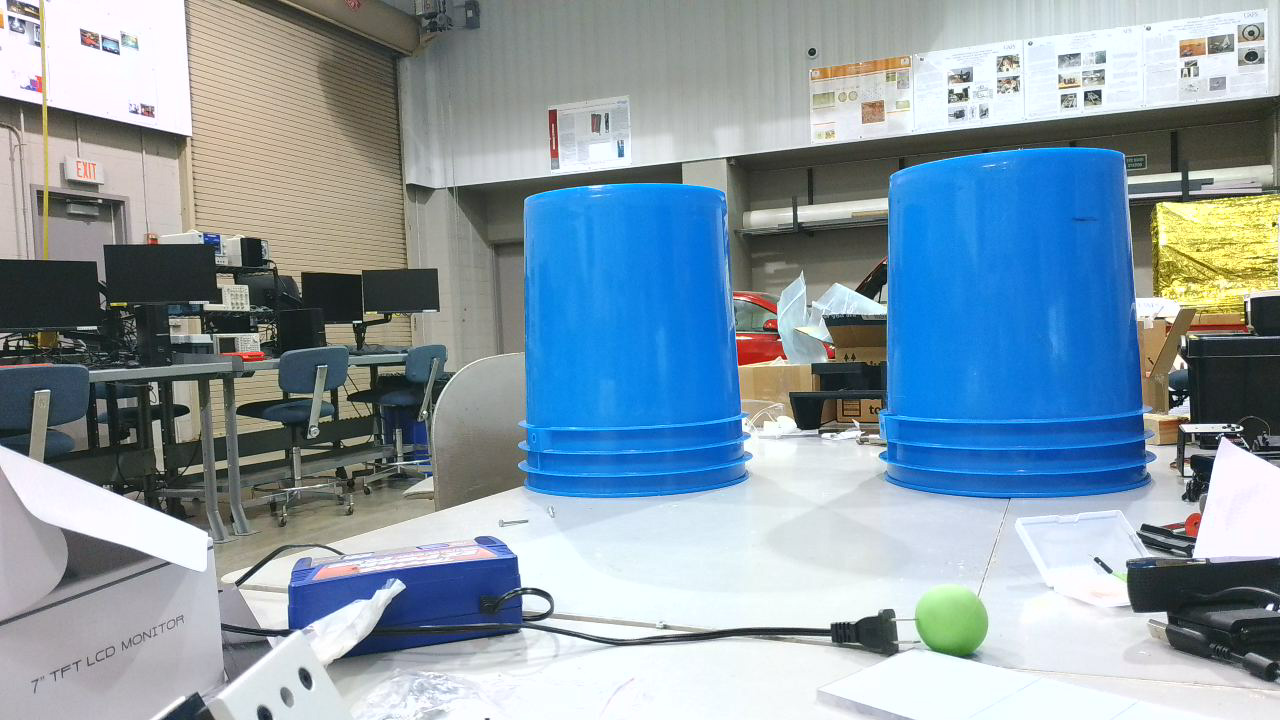blue_bucket: (879, 148, 1165, 509), (517, 185, 762, 507)
